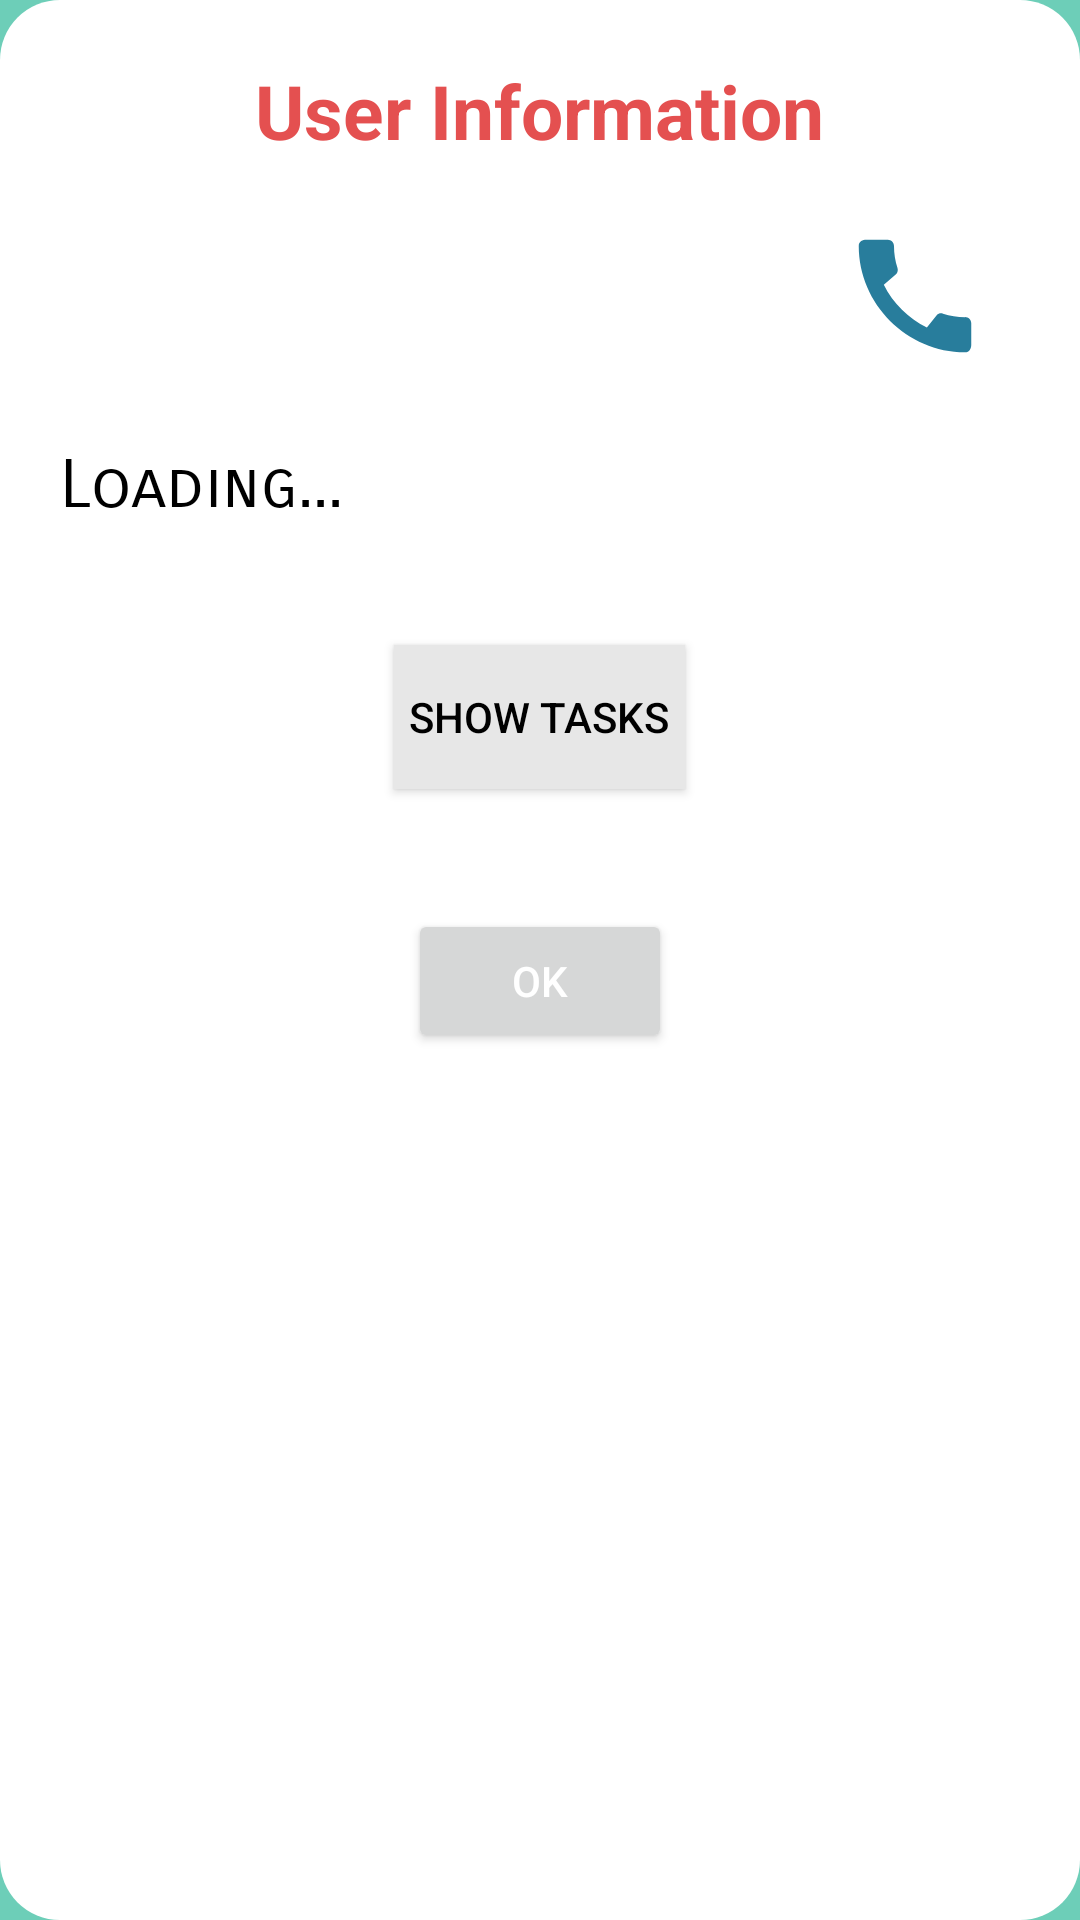

Icons on this 1080*1920 Android screen, each with its box as rect(x1, y1, x2, y2):
call: rect(858, 239, 972, 353)
